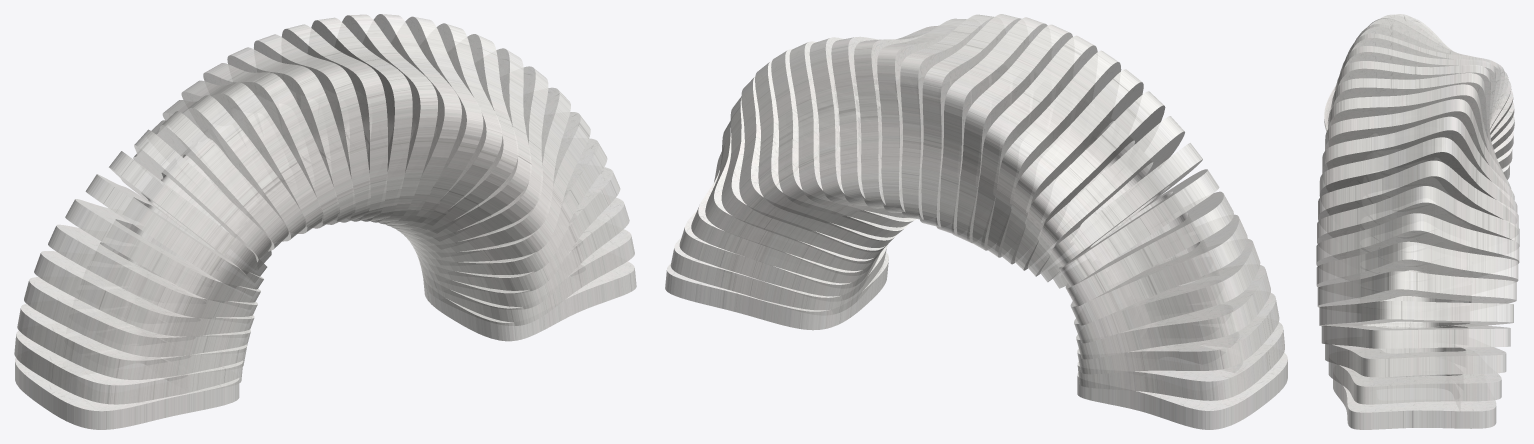
Rendered from screen010.glb.
The picture shows the model from 3 angles, left to right: view 1: azimuth 30°, elevation 25°; view 2: azimuth 150°, elevation 25°; view 3: azimuth 270°, elevation 25°; orthographic projection. The views are drawn at different scales.
Parts seen in each view (by area): view 1: [0]; view 2: [0]; view 3: [0].
Part boxes in pixels (x1=…): [0]: x1=14, y1=14, x2=636, y2=429; [0]: x1=665, y1=14, x2=1287, y2=429; [0]: x1=1316, y1=14, x2=1519, y2=429.
Bounding box in the file's own units: 12.57 × 6.45 × 4.42.
Materials: 1 (1 with a texture image).
